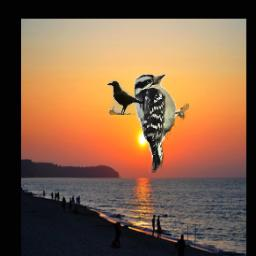Crow: (107, 81, 143, 116)
Woodpecker: (133, 72, 190, 174)
